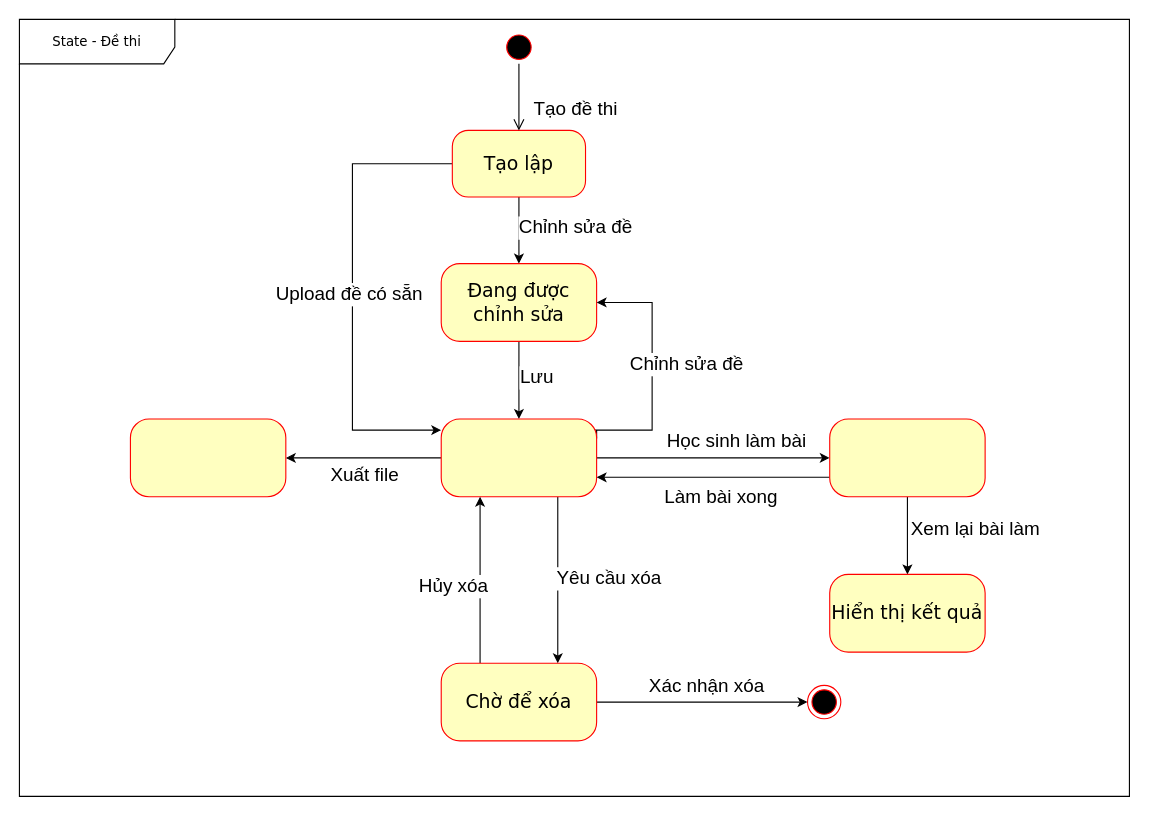
Some shapes in this 1149 by 816 pixel diagram are drawn without their labels. The shapes that lost their labels are listed below. From the top down, each one's box as (x1, y1, x2, y2) in pixels, then its label:
(129, 418, 286, 497): Đã được nén
(440, 418, 597, 497): Lưu trữ
(829, 418, 985, 497): Đang làm bài
